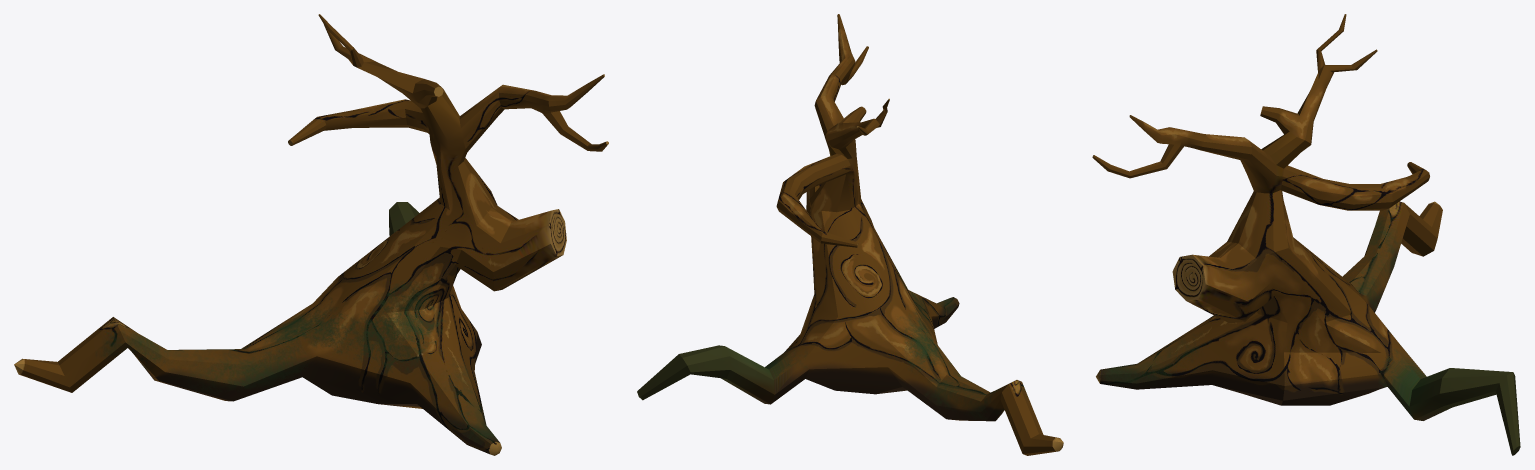
File: ARVIORES SECAS.fbx
The picture shows the model from 3 angles, left to right: view 1: azimuth 30°, elevation 25°; view 2: azimuth 150°, elevation 25°; view 3: azimuth 270°, elevation 25°; orthographic projection. The views are drawn at different scales.
Visible parts, largest first — view 1: Cylinder.001; view 2: Cylinder.001; view 3: Cylinder.001.
Boxes of the visible parts, x1,y1,x2,y2 form: Cylinder.001: (14,14,608,455); Cylinder.001: (637,14,1063,455); Cylinder.001: (1092,14,1520,455).
Size of the model in its own units: 3653 by 2689 by 2940.
